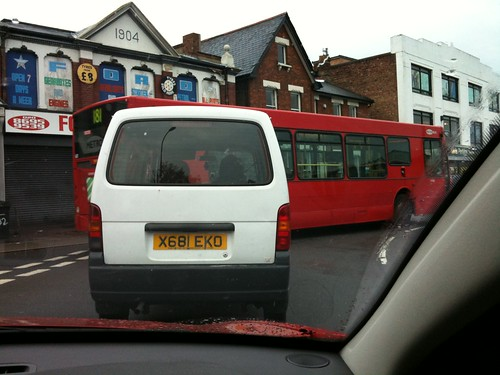building: (1, 27, 231, 264), (325, 35, 500, 176), (228, 11, 371, 129)
bus: (68, 101, 462, 225)
car: (88, 102, 290, 324)
